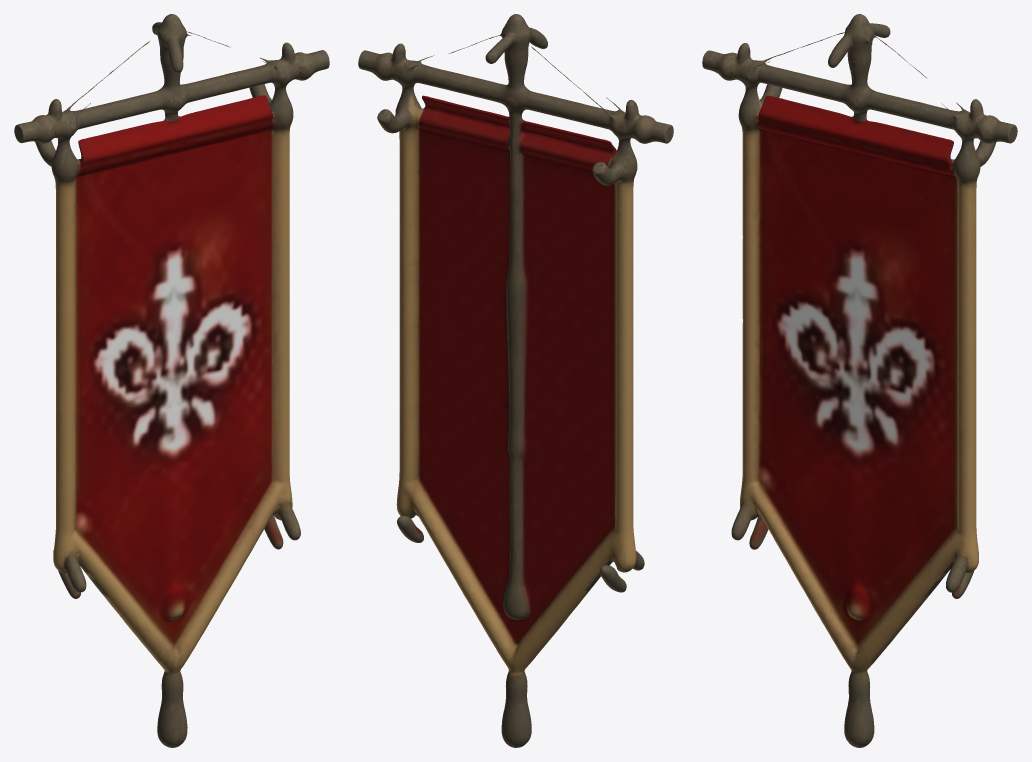
File: item_ambiente_md_7.glb
The picture shows the model from 3 angles, left to right: view 1: azimuth 30°, elevation 25°; view 2: azimuth 150°, elevation 25°; view 3: azimuth 330°, elevation 25°; orthographic projection.
Bounding box in the file's own units: 0.833 × 1.9 × 0.2197.
Materials: 1 (1 with a texture image).
